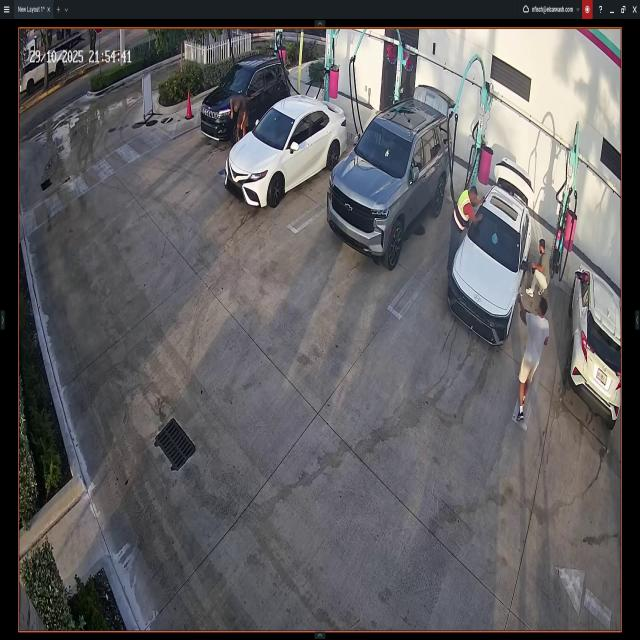Car: (330, 86, 455, 269), (450, 161, 530, 349), (226, 96, 346, 211), (570, 271, 620, 421), (200, 58, 290, 138)
